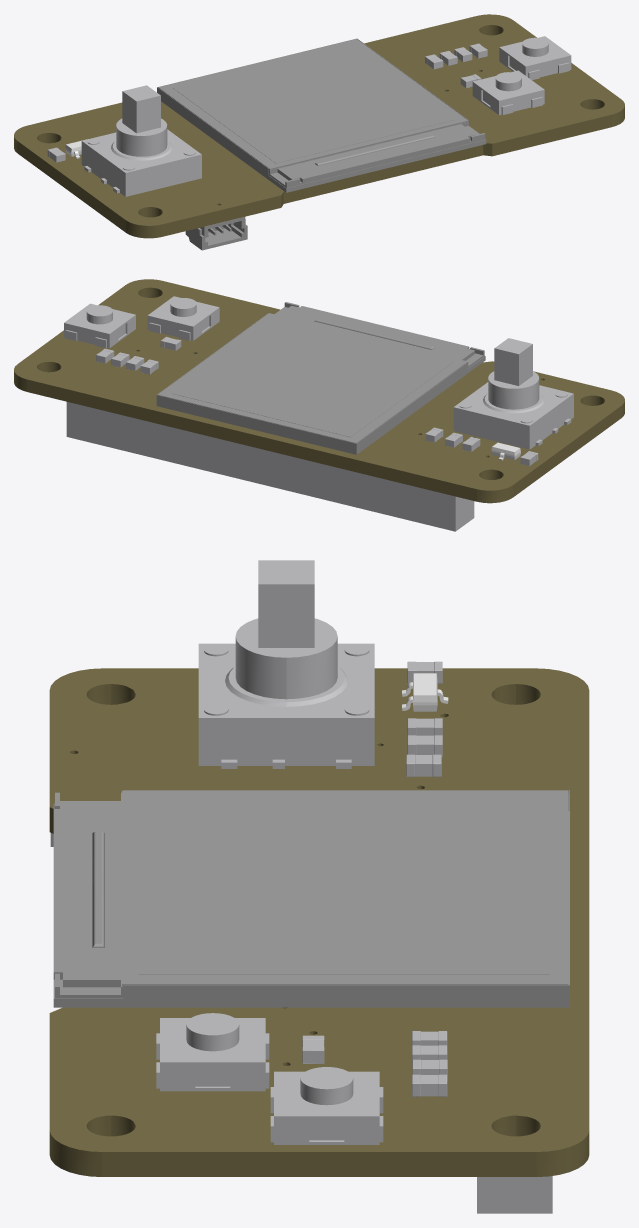
File: ada-4506.glb
3 views of the same model, one above another, from view 1: azimuth 30°, elevation 25°; view 2: azimuth 150°, elevation 25°; view 3: azimuth 270°, elevation 25° (orthographic). The views are drawn at different scales.
Visible parts, largest first — view 1: 0.16666666666666666_0.16666666666666666_0.08333333333333333_, 0.3333333333333333_0.3333333333333333_0.3333333333333333_0, 0.5833333333333334_0.5833333333333334_0.5833333333333334_0.8; view 2: 0.16666666666666666_0.16666666666666666_0.08333333333333333_, 0.5833333333333334_0.5833333333333334_0.5833333333333334_0.8, 0.3333333333333333_0.3333333333333333_0.3333333333333333_0, 0.9166666666666666_0.9166666666666666_0.9166666666666666_0.8; view 3: 0.16666666666666666_0.16666666666666666_0.08333333333333333_, 0.3333333333333333_0.3333333333333333_0.3333333333333333_0, 0.5833333333333334_0.5833333333333334_0.5833333333333334_0.8, 0.9166666666666666_0.9166666666666666_0.9166666666666666_0.8.
Part boxes in pixels (x1,y1,x2,y2): 0.16666666666666666_0.16666666666666666_0.08333333333333333_: (14,14,624,238); 0.3333333333333333_0.3333333333333333_0.3333333333333333_0: (157,38,486,250); 0.5833333333333334_0.5833333333333334_0.5833333333333334_0.8: (47,36,571,196); 0.16666666666666666_0.16666666666666666_0.08333333333333333_: (14,279,624,503); 0.5833333333333334_0.5833333333333334_0.5833333333333334_0.8: (64,296,573,531); 0.3333333333333333_0.3333333333333333_0.3333333333333333_0: (156,302,485,454); 0.9166666666666666_0.9166666666666666_0.9166666666666666_0.8: (491,442,520,460); 0.16666666666666666_0.16666666666666666_0.08333333333333333_: (49,668,589,1176); 0.3333333333333333_0.3333333333333333_0.3333333333333333_0: (50,790,569,1007); 0.5833333333333334_0.5833333333333334_0.5833333333333334_0.8: (156,560,552,1213); 0.9166666666666666_0.9166666666666666_0.9166666666666666_0.8: (402,673,448,711).
Size of the model in its own units: 6.5 by 1.69 by 3.07.
